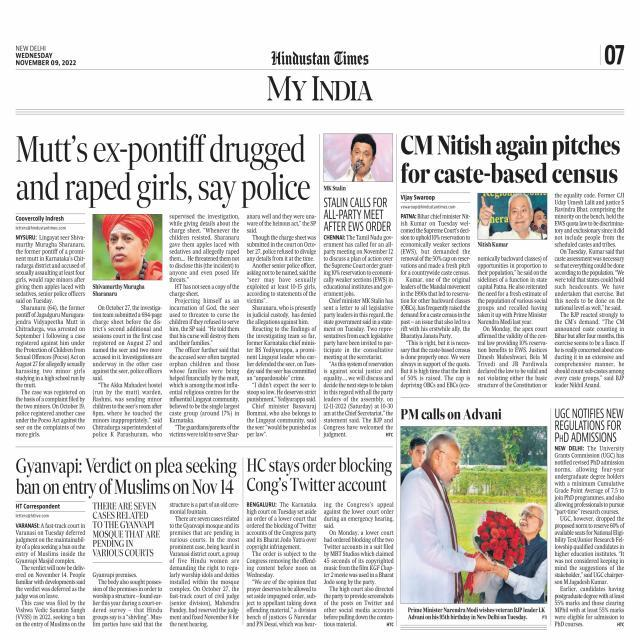Article: (11, 127, 319, 443), (9, 451, 398, 634), (397, 126, 629, 394), (320, 130, 396, 442), (552, 402, 628, 632)
Body: (169, 214, 241, 441), (247, 214, 318, 438), (13, 232, 85, 440), (552, 189, 626, 390), (322, 234, 394, 439), (554, 446, 626, 628), (400, 210, 472, 391), (92, 302, 164, 438), (477, 253, 548, 389), (245, 500, 318, 630), (322, 500, 396, 628), (168, 501, 241, 628), (12, 519, 86, 630), (92, 568, 164, 629)
Date: (14, 51, 78, 68)
Heading: (14, 131, 314, 211), (400, 131, 622, 184), (15, 456, 238, 496), (246, 456, 395, 496), (322, 194, 393, 232), (554, 405, 624, 443)
Highlights: (92, 500, 162, 560), (400, 405, 504, 420)
Image: (401, 426, 548, 604), (92, 214, 164, 280), (478, 192, 547, 240), (323, 133, 392, 180)
Name: (262, 71, 376, 103), (268, 49, 370, 66)
